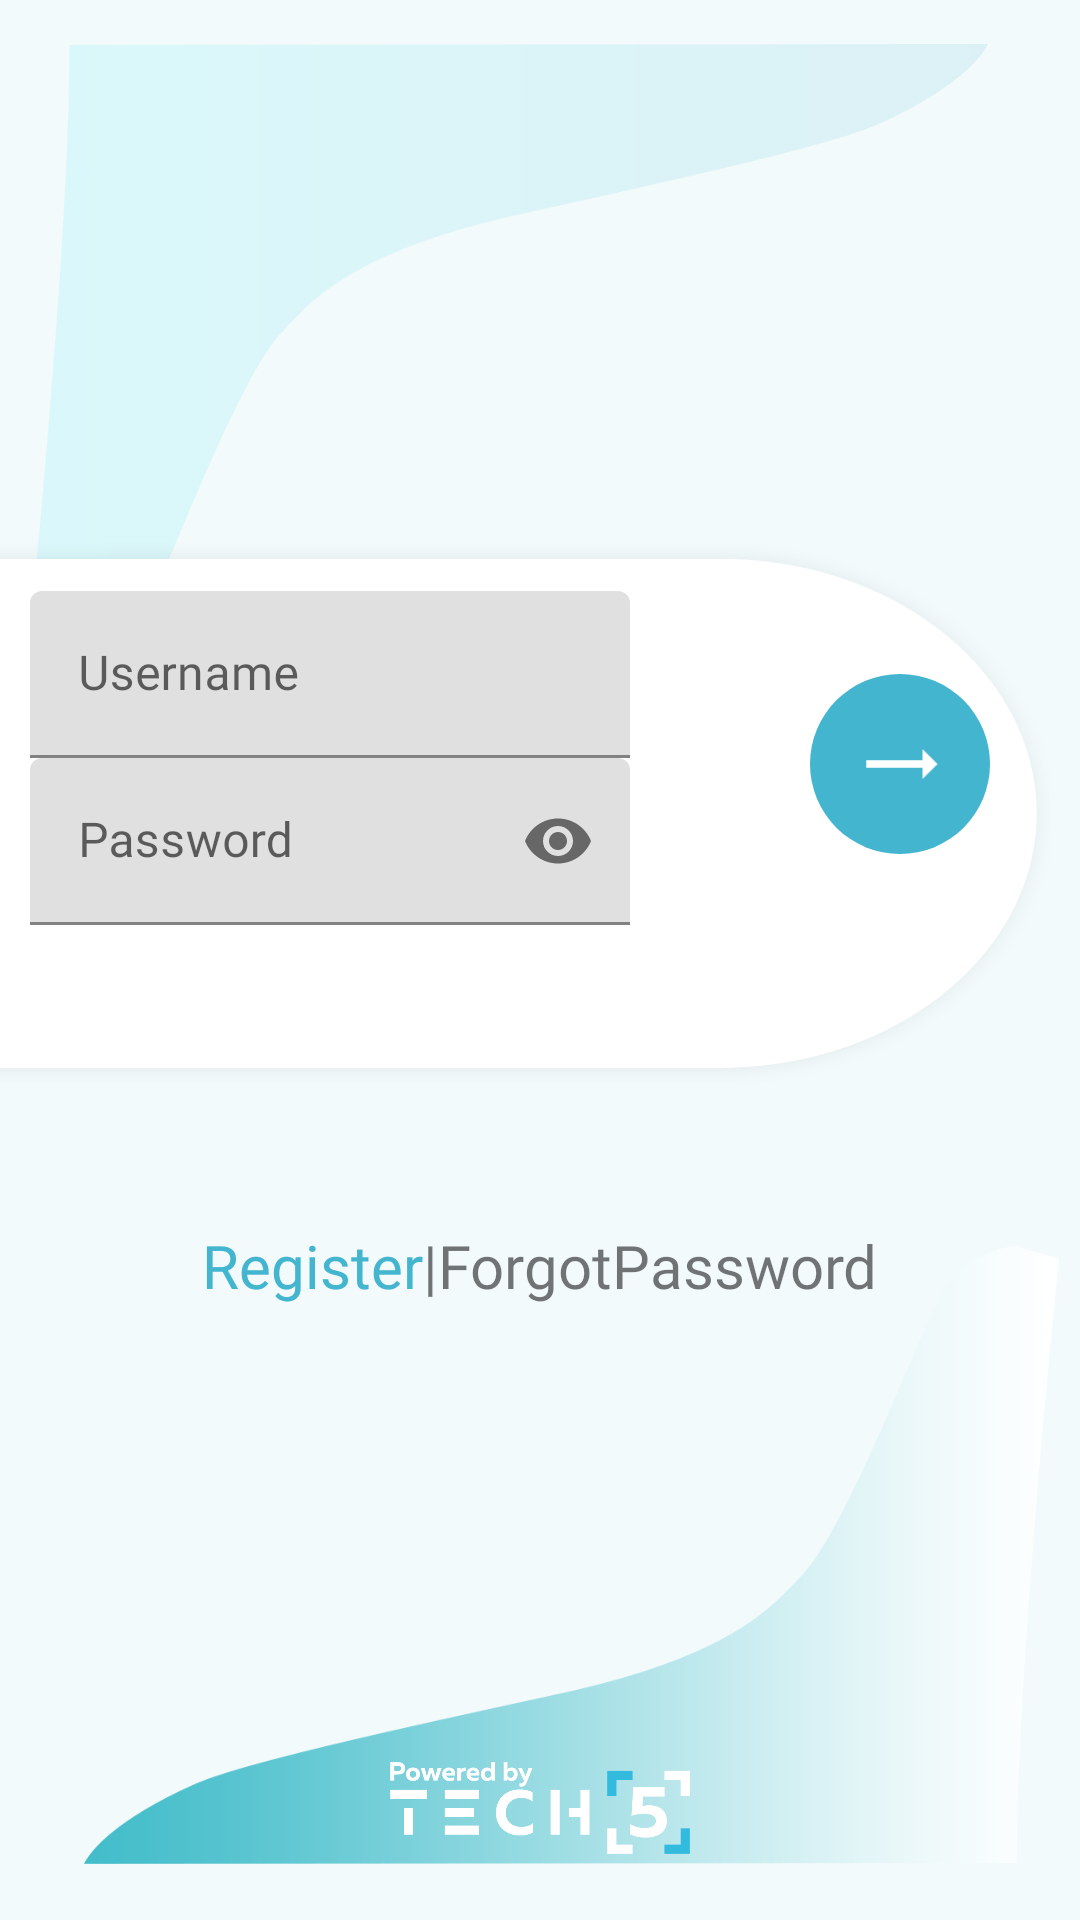

Locate icon controls on the screen. Image size 1080 × 1920, boxes as region(x1, y1, x2, y2).
go res: region(810, 692, 990, 836)
